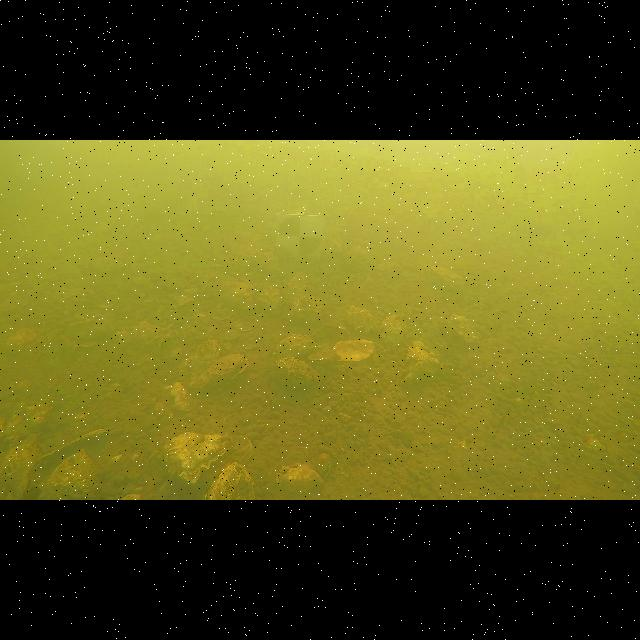Oyster-Closed: (164, 432, 254, 482), (45, 448, 105, 500), (0, 434, 41, 499), (187, 352, 246, 394), (205, 462, 255, 500), (176, 340, 222, 381), (115, 321, 172, 352), (404, 340, 441, 382), (271, 356, 319, 386), (276, 464, 324, 494), (69, 312, 116, 342), (426, 266, 464, 296), (272, 334, 318, 358), (289, 296, 324, 324), (225, 279, 254, 310), (446, 315, 478, 342), (348, 306, 380, 332), (380, 315, 406, 344), (285, 272, 309, 301), (259, 285, 282, 315)
Oyster-Open: (332, 339, 375, 361)
